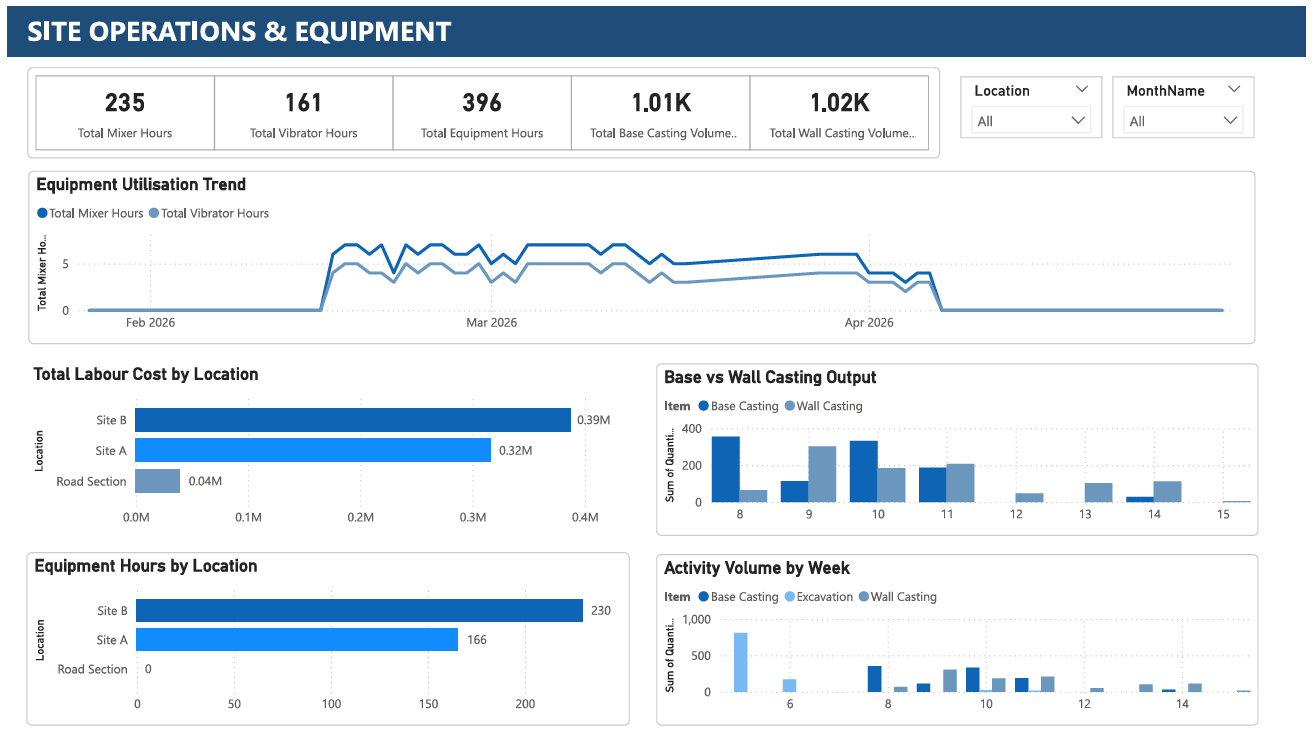

The page's visual inventory and layout, read from the dashboard file:
{"tool":"powerbi","page":{"name":"SITE OPERATIONS & EQUIPMENT","canvas":[1280,720],"ordinal":1},"visuals":[{"type":"textbox","box":[0,165,450,30],"z":0},{"type":"shape","box":[0,0,1280,50],"z":1000},{"type":"textbox","box":[0,0,1280,50],"z":2000},{"type":"slicer","fields":{"Values":["Site_Log.Location"]},"box":[939.6,68.9,140.7,61],"z":3000},{"type":"slicer","fields":{"Values":["DateTable.MonthName"]},"box":[1089.7,68.9,140.7,61],"z":4000},{"type":"cardVisual","fields":{"Data":["_Measures.Total Mixer Hours","_Measures.Total Vibrator Hours","_Measures.Total Equipment Hours","_Measures.Total Base Casting Volume (m)","_Measures.Total Wall Casting Volume (m)"]},"box":[20,60,900,90],"z":5000},{"type":"lineChart","title":"Equipment Utilisation Trend","fields":{"Category":["Site_Log.Date"],"Y":["_Measures.Total Mixer Hours","_Measures.Total Vibrator Hours"]},"box":[20.7,162.1,1210.3,170.7],"z":6000},{"type":"clusteredBarChart","title":"Equipment Hours by Location","fields":{"Category":["Site_Log.Location"],"Y":["_Measures.Total Equipment Hours"]},"box":[19,537.9,594.8,170.7],"z":7000},{"type":"clusteredColumnChart","title":"Base vs Wall Casting Output","fields":{"Category":["DateTable.WeekNumISO"],"Series":["Site_Log.Item"],"Y":["Sum(Site_Log.Quantity)"]},"box":[640,352,594,170],"z":8000},{"type":"clusteredColumnChart","title":"Activity Volume by Week","fields":{"Category":["DateTable.WeekNumISO"],"Y":["Sum(Site_Log.Quantity)"],"Series":["Site_Log.Item"]},"box":[639.7,539.7,594.8,169],"z":9000},{"type":"clusteredBarChart","fields":{"Category":["Site_Log.Location"],"Y":["_Measures.Total Labour Cost"]},"box":[20.7,351.7,593.1,170.7],"z":10000}]}

Visuals, with their boxes in screenshot pixels (x1, y1, x2, y2), scaled from the page's 1280x720 canvas onto the 1315x737 screenshot:
textbox: region(0, 169, 462, 200)
shape: region(0, 0, 1314, 51)
textbox: region(0, 0, 1314, 51)
slicer - Site_Log.Location: region(965, 71, 1110, 133)
slicer - DateTable.MonthName: region(1119, 71, 1264, 133)
cardVisual - _Measures.Total Mixer Hours x _Measures.Total Vibrator Hours: region(21, 61, 945, 154)
"Equipment Utilisation Trend" lineChart: region(21, 166, 1265, 341)
"Equipment Hours by Location" clusteredBarChart: region(20, 551, 631, 725)
"Base vs Wall Casting Output" clusteredColumnChart: region(658, 360, 1268, 534)
"Activity Volume by Week" clusteredColumnChart: region(657, 552, 1268, 725)
clusteredBarChart - Site_Log.Location x _Measures.Total Labour Cost: region(21, 360, 631, 535)
